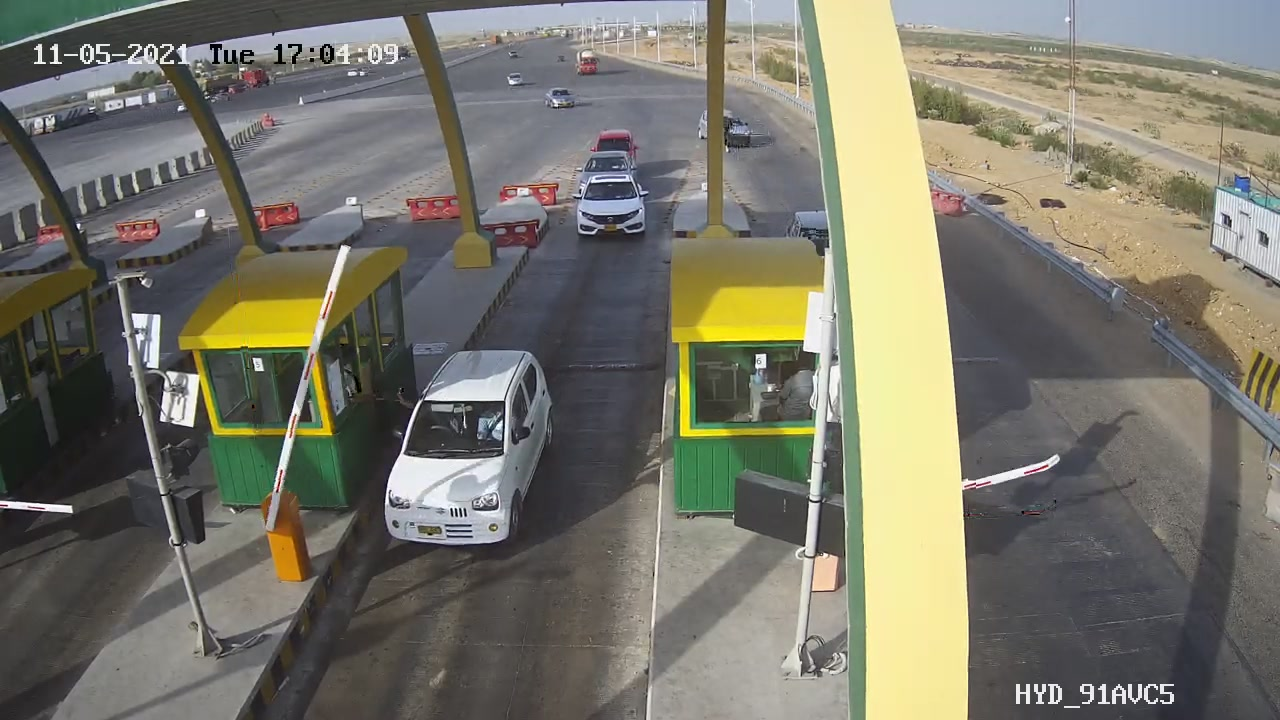F1: (361, 335, 578, 569), (556, 162, 666, 248)
